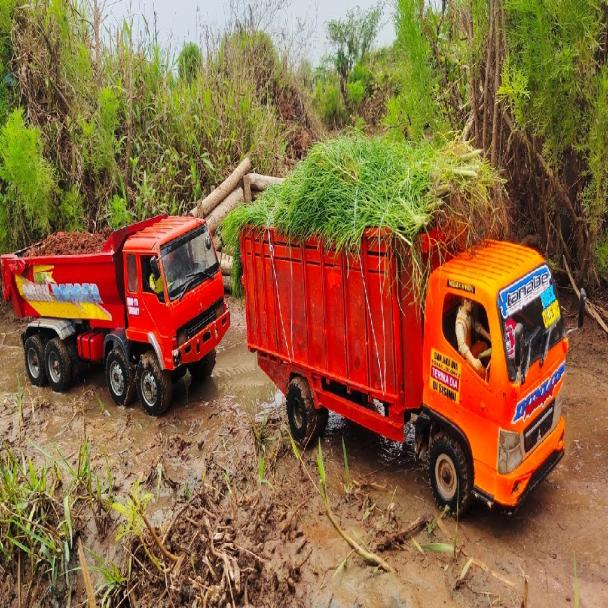Mobil: (243, 220, 569, 470), (6, 207, 228, 402)
